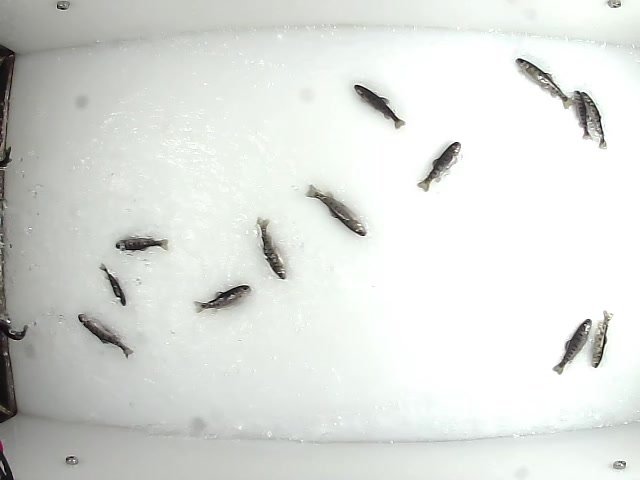fish: (303, 181, 368, 240), (515, 55, 573, 109), (75, 310, 135, 361), (553, 316, 594, 376), (416, 140, 461, 194), (354, 83, 405, 130), (256, 213, 287, 283), (580, 87, 610, 152), (192, 283, 250, 314), (587, 310, 614, 370), (96, 263, 127, 305), (570, 87, 593, 143), (113, 232, 170, 254)
